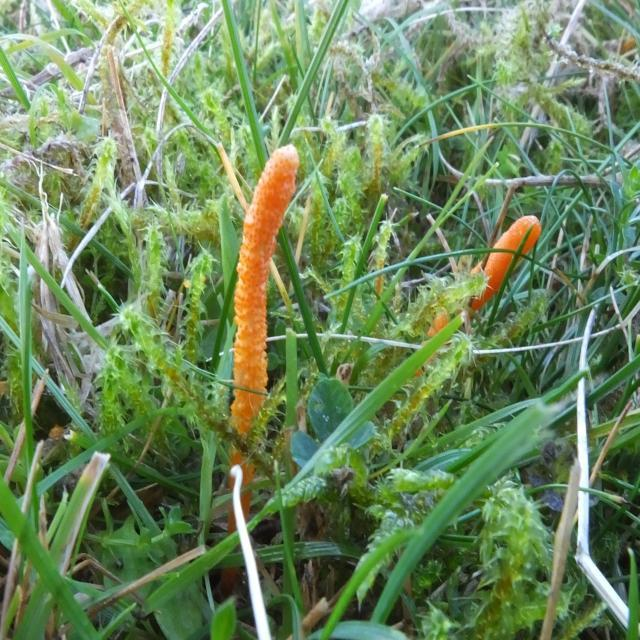Cordyceps militaris: (232, 145, 300, 500), (426, 211, 541, 375)
